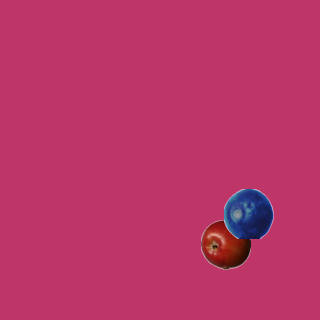Apple Braeburn: (200, 219, 250, 269)
Huckleberry: (223, 188, 273, 238)
